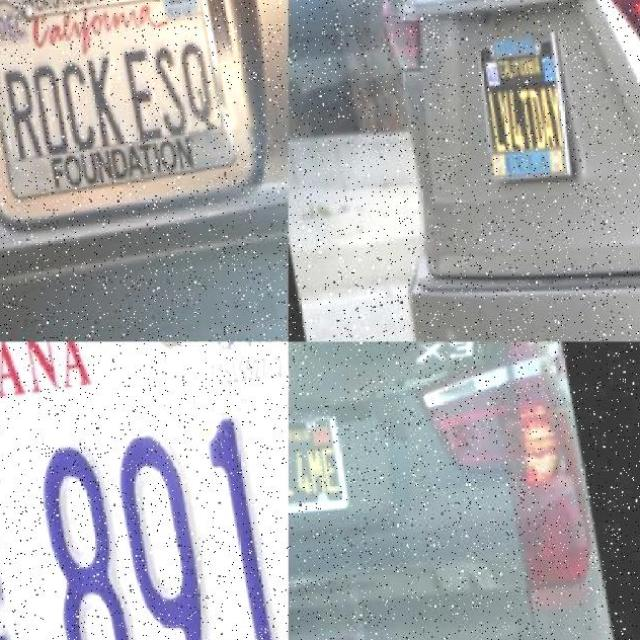LicensePlate: (0, 358, 288, 640), (0, 0, 251, 206), (470, 23, 586, 185), (288, 401, 354, 523)
